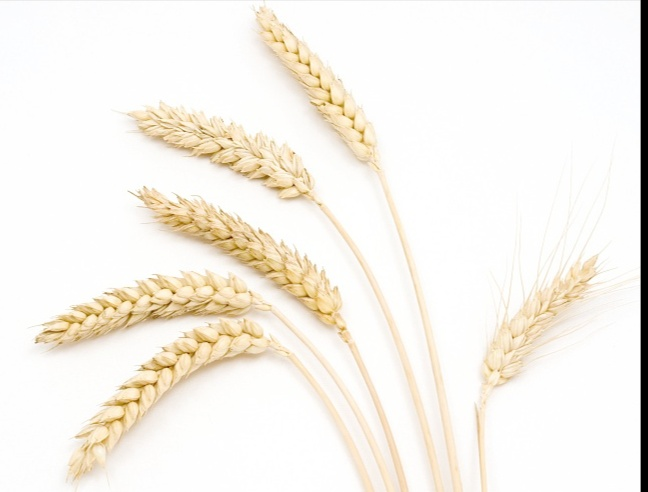wheat: (32, 320, 287, 489), (129, 188, 350, 331), (249, 2, 398, 202), (476, 225, 610, 425), (129, 99, 335, 217), (29, 270, 263, 347)
